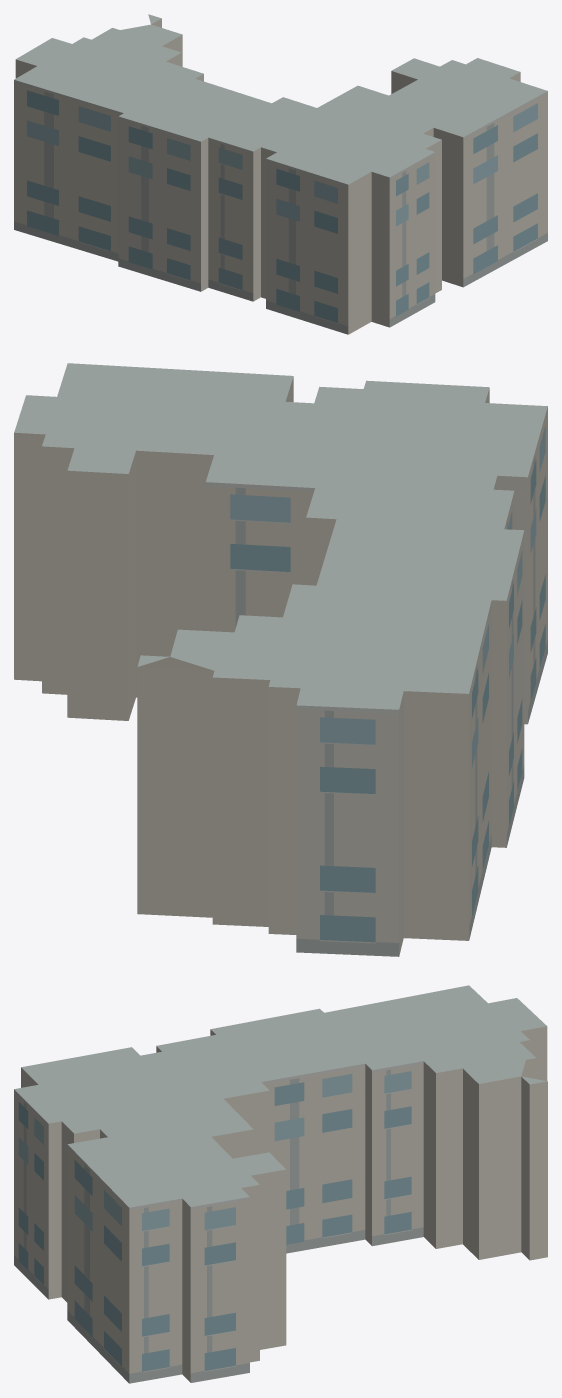
File: residential-8ef34fe6-1c1f-4557-bd3a-71ceed8ef125.glb
3 views of the same model, one above another, from view 1: azimuth 30°, elevation 25°; view 2: azimuth 150°, elevation 25°; view 3: azimuth 270°, elevation 25° (orthographic). The views are drawn at different scales.
Visible parts, largest first — view 1: residential-8ef34fe6-1c1f-4557-bd3a-71ceed8ef125.tmp; view 2: residential-8ef34fe6-1c1f-4557-bd3a-71ceed8ef125.tmp; view 3: residential-8ef34fe6-1c1f-4557-bd3a-71ceed8ef125.tmp.
Boxes of the visible parts, x1,y1,x2,y2 form: residential-8ef34fe6-1c1f-4557-bd3a-71ceed8ef125.tmp: [14, 14, 547, 334]; residential-8ef34fe6-1c1f-4557-bd3a-71ceed8ef125.tmp: [14, 363, 547, 956]; residential-8ef34fe6-1c1f-4557-bd3a-71ceed8ef125.tmp: [14, 985, 547, 1383].
Bounding box in the file's own units: 41.36 × 15.25 × 41.95.
